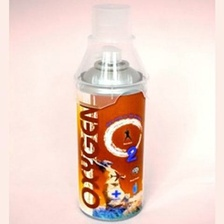aerosol_cans: (72, 42, 149, 224)
